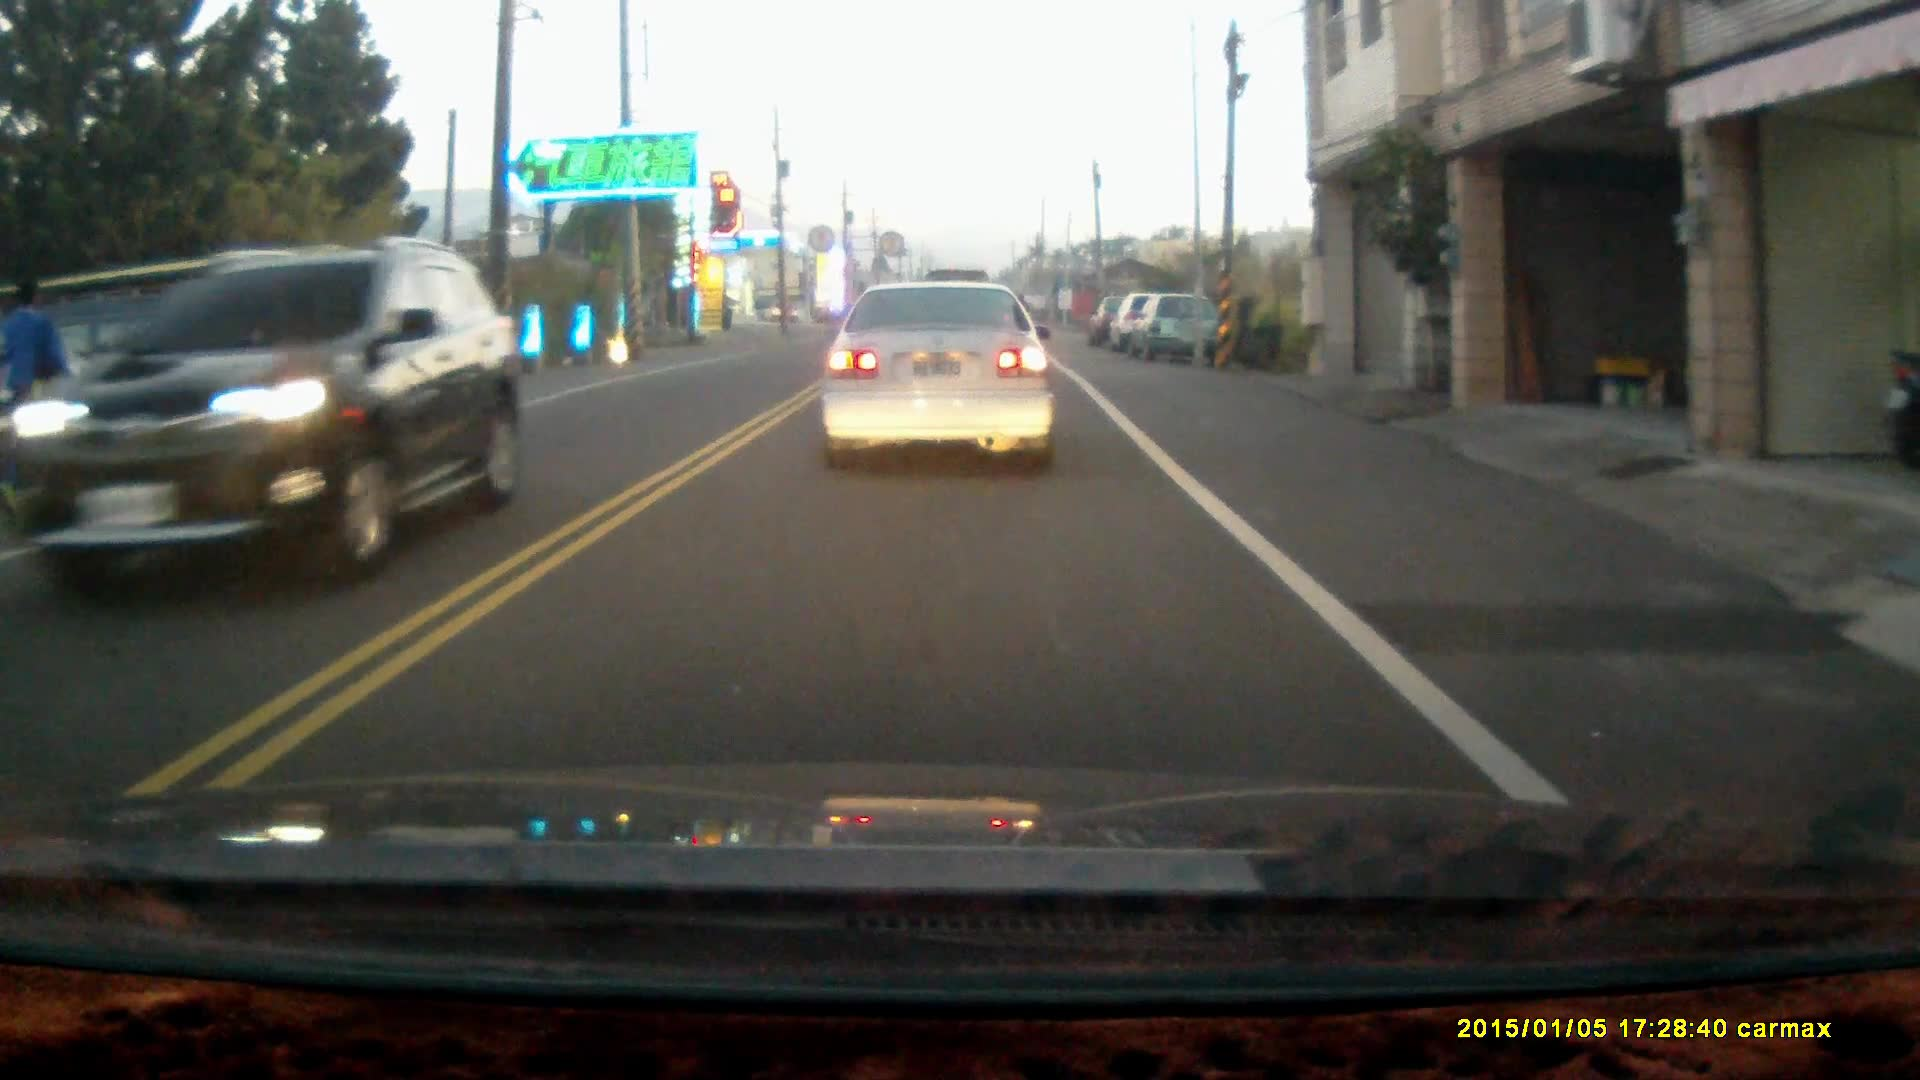pedestrian: (0, 277, 68, 502)
vehicle: (20, 236, 499, 579), (819, 279, 1056, 470), (1, 327, 199, 500), (1125, 294, 1220, 364)
